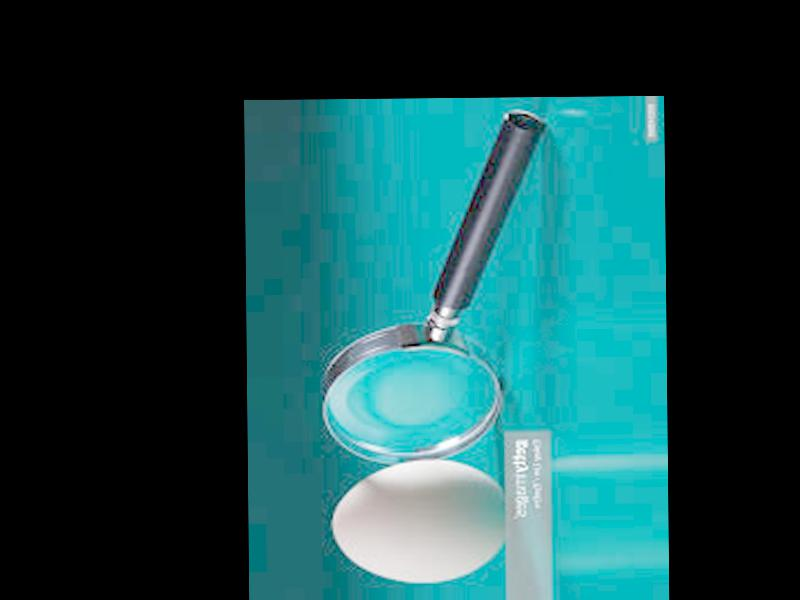Eggs: (330, 458, 508, 584)
